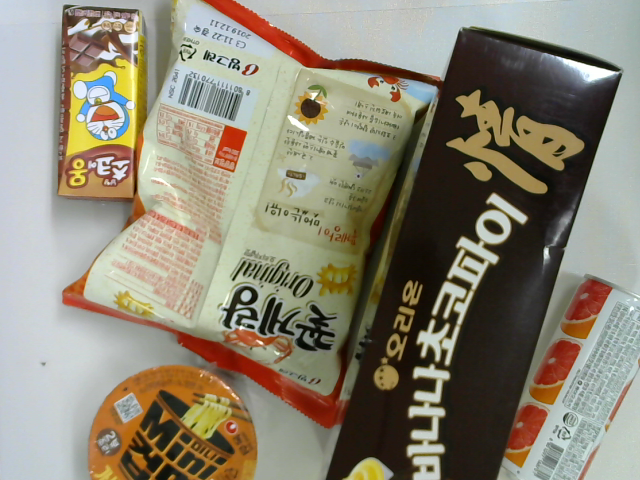Choco_E_Mong: (57, 4, 151, 202)
Choco_Pie_Banana: (324, 27, 624, 479)
Crabrang: (59, 1, 444, 432)
Demisoda_Grapefruit_Can_250ml: (497, 274, 640, 480)
Udongmini: (86, 362, 257, 480)
